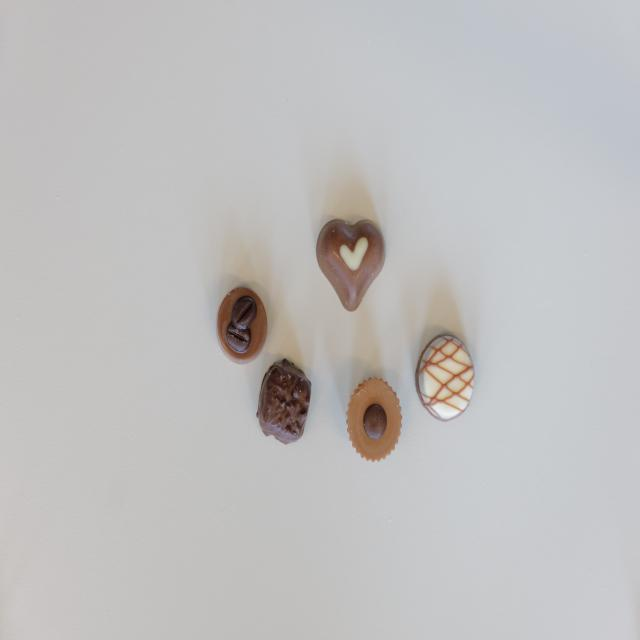Arabia: (217, 286, 267, 363)
Creme_brulee: (414, 333, 476, 420)
Noblesse: (345, 375, 403, 464)
Passion_au_lait: (314, 217, 386, 313)
Tentation_noir: (256, 357, 312, 446)
